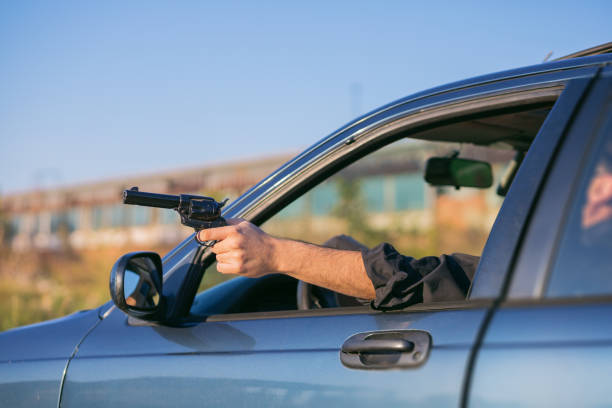gun: (120, 185, 230, 248)
